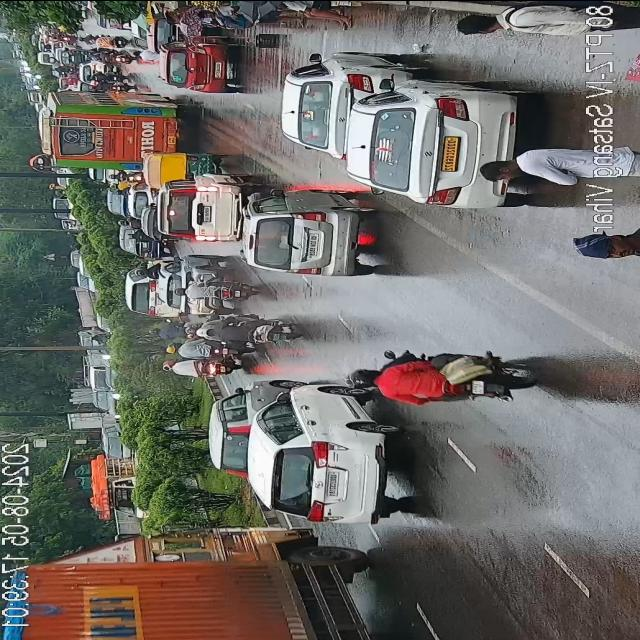2-wheelers: (348, 353, 541, 403), (162, 338, 244, 378), (198, 314, 300, 340), (73, 58, 138, 90), (178, 280, 254, 303), (78, 32, 132, 62), (85, 72, 130, 90), (110, 172, 140, 192), (53, 22, 75, 40), (52, 64, 74, 76), (124, 230, 150, 240), (118, 218, 138, 227)
auto: (146, 152, 222, 176), (142, 205, 158, 238)
bus: (42, 89, 180, 163)
car: (350, 67, 524, 203), (250, 378, 398, 526), (245, 190, 370, 279), (282, 53, 386, 151), (212, 379, 276, 477), (156, 172, 245, 242), (165, 36, 234, 94), (155, 254, 223, 277), (124, 273, 158, 318), (128, 181, 156, 223), (119, 241, 172, 259), (148, 22, 171, 52), (52, 42, 82, 62), (106, 192, 125, 216), (74, 60, 112, 70)
pedestrian: (478, 149, 594, 187), (453, 8, 589, 38), (573, 231, 640, 272), (270, 0, 355, 30), (196, 6, 296, 27), (166, 8, 196, 26), (129, 49, 159, 60)
truck: (1, 524, 326, 640), (90, 458, 134, 518), (76, 288, 108, 328)
